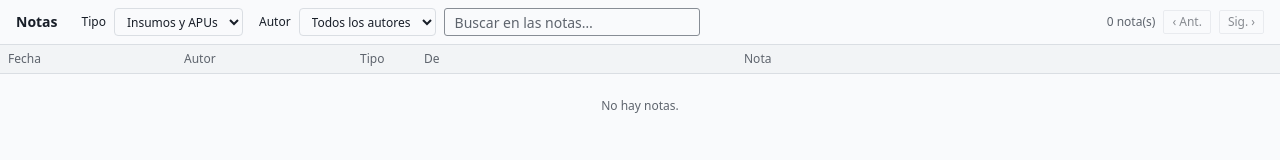
Test: Notas › descarta la respuesta vieja que llega después de la nueva
Select "APUs" in the dropdown labelled "Tipo": (178, 22) [114, 8, 243, 36]
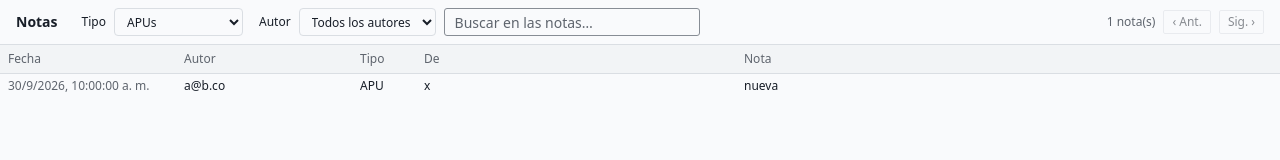
Now the text "nueva" is shown, box [736, 74, 1279, 98]
